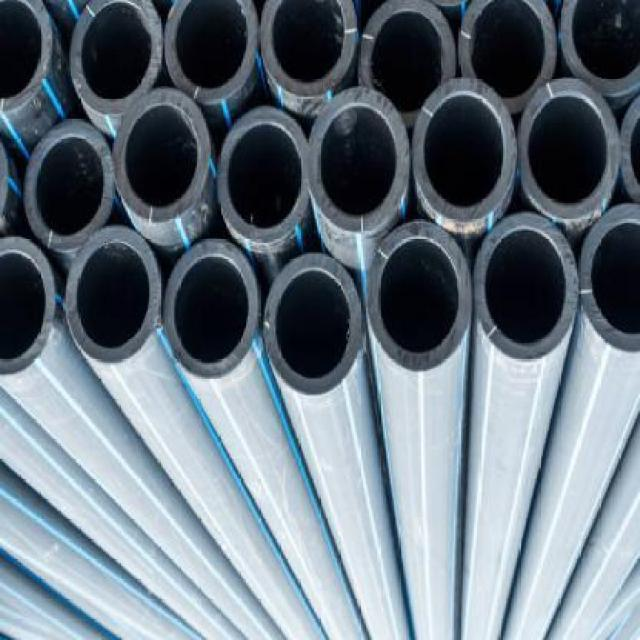pipe: (366, 222, 471, 373), (474, 212, 579, 363), (413, 75, 516, 220), (309, 88, 411, 234), (518, 80, 620, 222), (265, 254, 363, 396), (165, 238, 261, 380), (114, 88, 211, 224), (217, 106, 311, 245), (66, 225, 160, 363), (360, 2, 457, 127), (25, 120, 114, 253), (459, 0, 559, 114), (71, 0, 165, 114), (165, 0, 259, 105), (258, 2, 357, 100), (580, 202, 639, 353), (1, 237, 57, 376), (560, 2, 639, 96), (0, 1, 54, 117)
